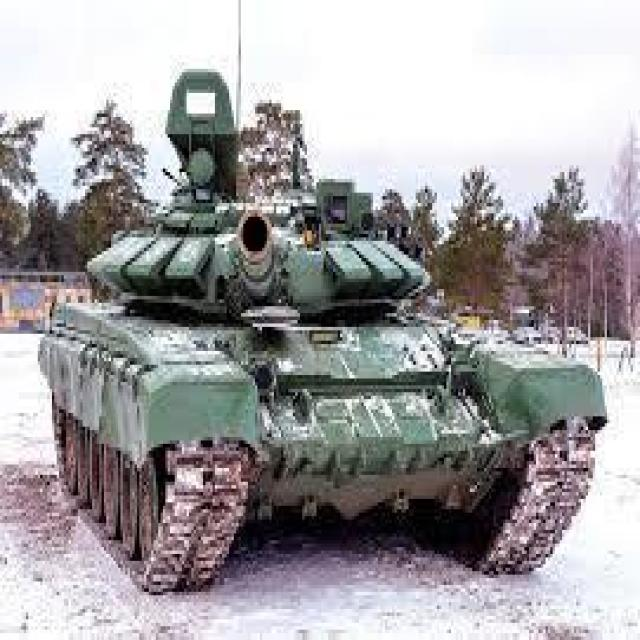Tanks: (48, 78, 568, 614)
